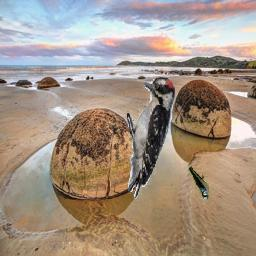Swallow: (187, 165, 209, 199)
Woodpecker: (127, 77, 175, 202)
